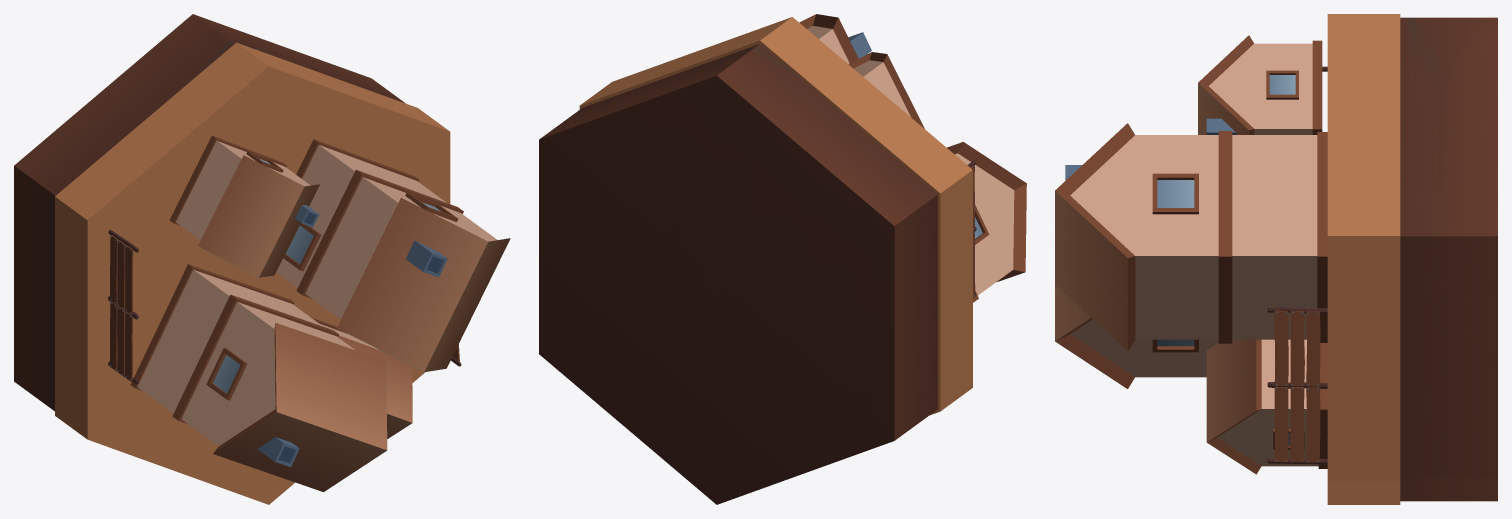
File: DORF_B.fbx
3 renders of one model, left to right at view 1: azimuth 30°, elevation 25°; view 2: azimuth 150°, elevation 25°; view 3: azimuth 270°, elevation 25°, orthographic. The views are drawn at different scales.
Visible parts, largest first — view 1: DORF_B; view 2: DORF_B; view 3: DORF_B.
Boxes of the visible parts, x1,y1,x2,y2 form: DORF_B: (14, 14, 510, 504); DORF_B: (539, 14, 1026, 504); DORF_B: (1055, 14, 1497, 504).
Size of the model in its own units: 172 by 199 by 163.
